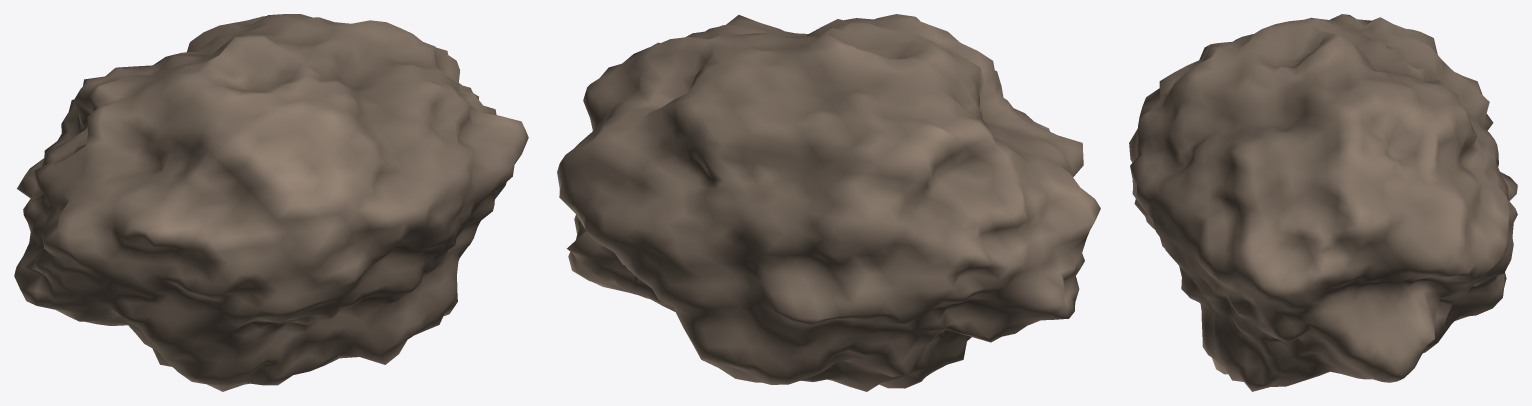
The model's file is impact-fragment.glb.
The picture shows the model from 3 angles, left to right: view 1: azimuth 30°, elevation 25°; view 2: azimuth 150°, elevation 25°; view 3: azimuth 270°, elevation 25°; orthographic projection. The views are drawn at different scales.
Parts seen in each view (by area): view 1: Exora impact-fragment; view 2: Exora impact-fragment; view 3: Exora impact-fragment.
Boxes of the visible parts, x1,y1,x2,y2 form: Exora impact-fragment: [14, 14, 528, 391]; Exora impact-fragment: [557, 14, 1100, 391]; Exora impact-fragment: [1129, 14, 1517, 391].
Bounding box in the file's own units: 2.2 × 1.39 × 1.63.
